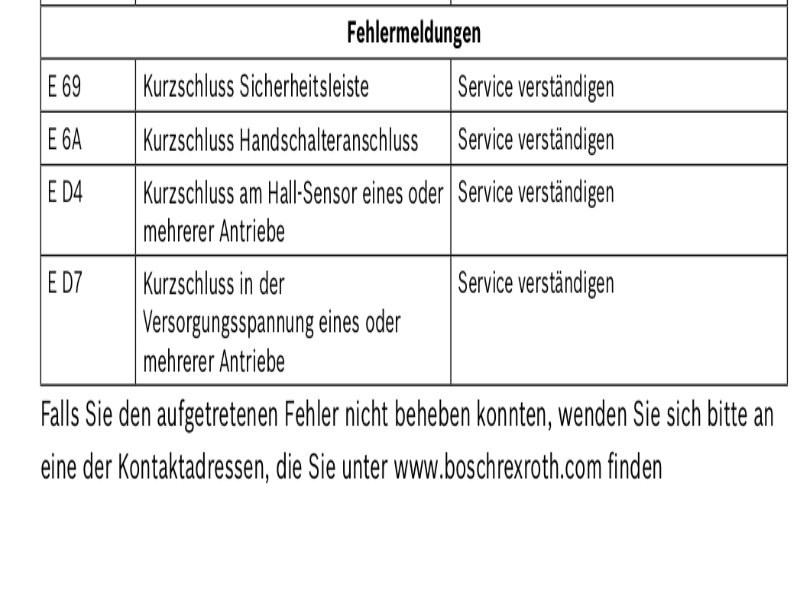border: (33, 2, 800, 394)
cell: (140, 263, 426, 376), (139, 175, 443, 249), (139, 121, 424, 158), (140, 68, 387, 104), (457, 173, 638, 220), (455, 263, 639, 304), (456, 120, 633, 157), (455, 67, 623, 104), (342, 15, 490, 48), (44, 173, 97, 212), (44, 122, 95, 154), (46, 266, 92, 300), (46, 68, 93, 100)
